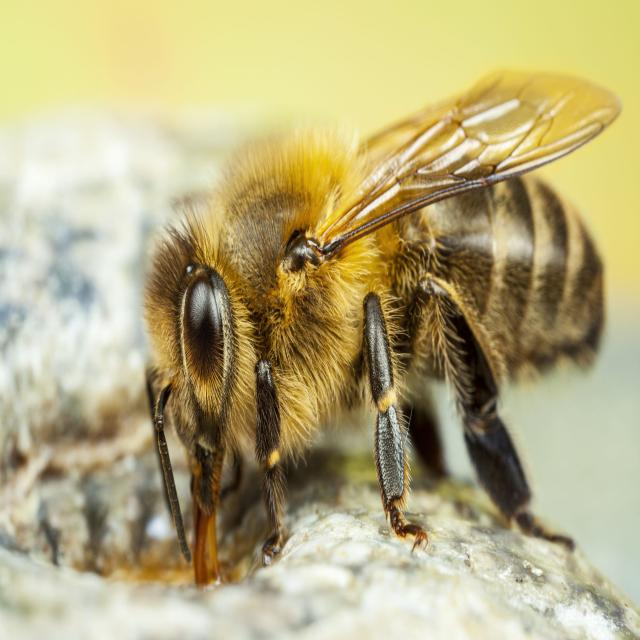Apis-mellifera-scutellata: (134, 46, 623, 598)
